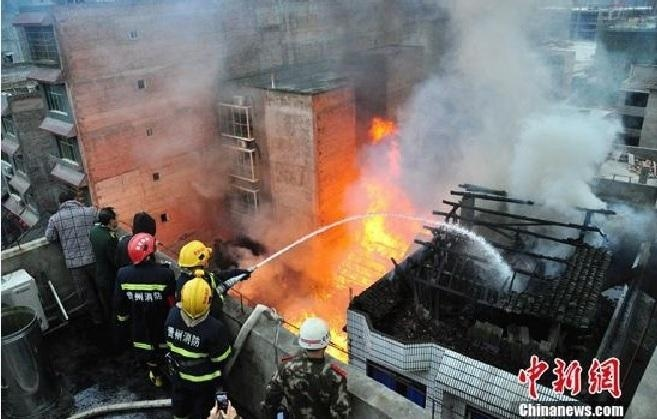fire: (238, 120, 422, 352)
